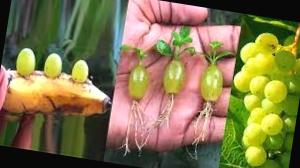Grape Rotten: (218, 27, 300, 168)
